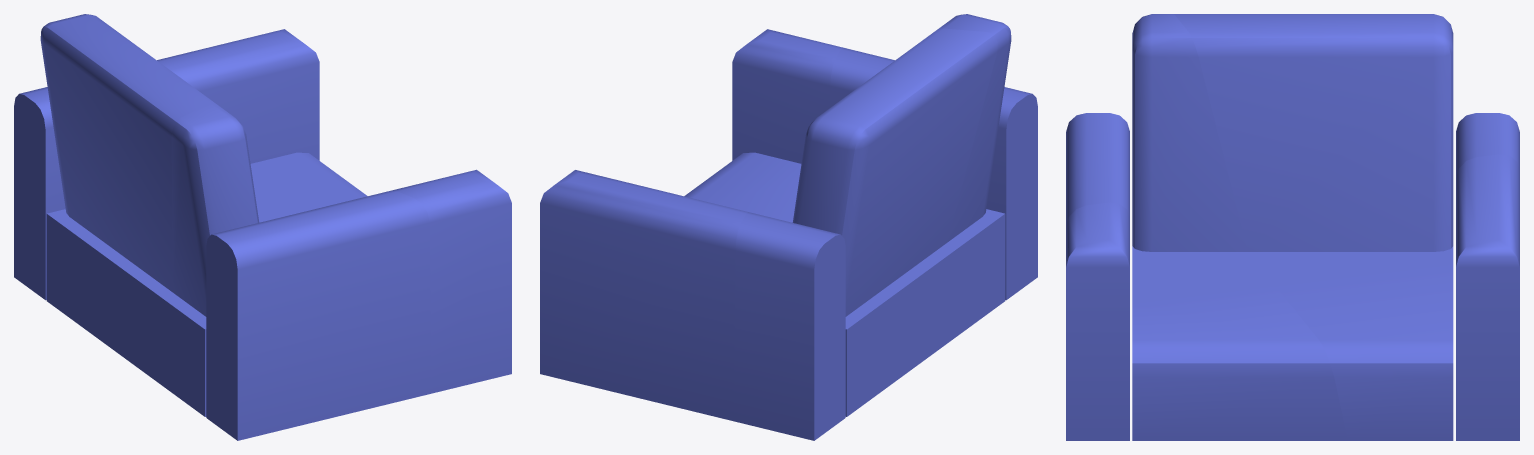
Rendered from sofa2.fbx.
3 views of the same model, side by side, from view 1: azimuth 30°, elevation 25°; view 2: azimuth 150°, elevation 25°; view 3: azimuth 270°, elevation 25° (orthographic).
Parts seen in each view (by area): view 1: Cube.011, Cube.008, Cube.009, Cube.010; view 2: Cube.008, Cube.009, Cube.011, Cube.010; view 3: Cube.008, Cube.010, Cube.009, Cube.011.
Boxes of the visible parts, x1=… form: Cube.011: x1=153, y1=103, x2=431, y2=440; Cube.008: x1=14, y1=14, x2=214, y2=378; Cube.009: x1=157, y1=29, x2=367, y2=222; Cube.010: x1=390, y1=169, x2=511, y2=393; Cube.008: x1=734, y1=28, x2=997, y2=440; Cube.009: x1=540, y1=170, x2=748, y2=421; Cube.011: x1=830, y1=14, x2=1037, y2=338; Cube.010: x1=684, y1=29, x2=842, y2=222; Cube.008: x1=1173, y1=14, x2=1519, y2=285; Cube.010: x1=1066, y1=202, x2=1347, y2=440; Cube.009: x1=1275, y1=154, x2=1519, y2=440; Cube.011: x1=1066, y1=14, x2=1274, y2=303.
Bounding box in the file's own units: 209 × 199 × 282.
